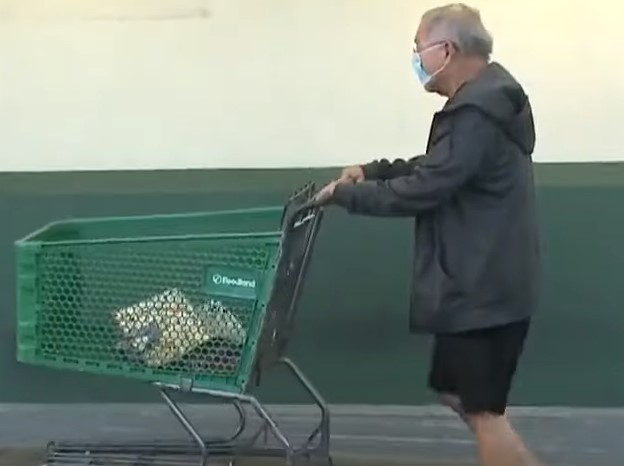face_with_mask: (407, 3, 462, 95)
